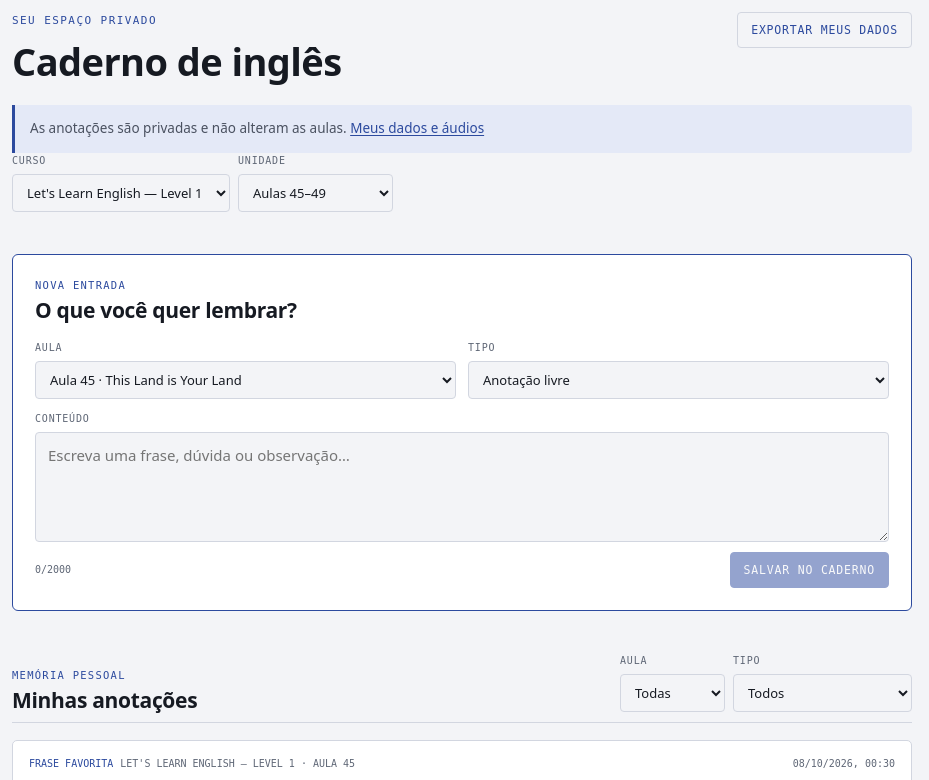
Test: NotebookPage › mostra o identificador da requisição quando a API falha ao salvar
Type "Uma frase nova" into the text box labelled "Conteúdo" at (462, 487), box [35,432,889,542]
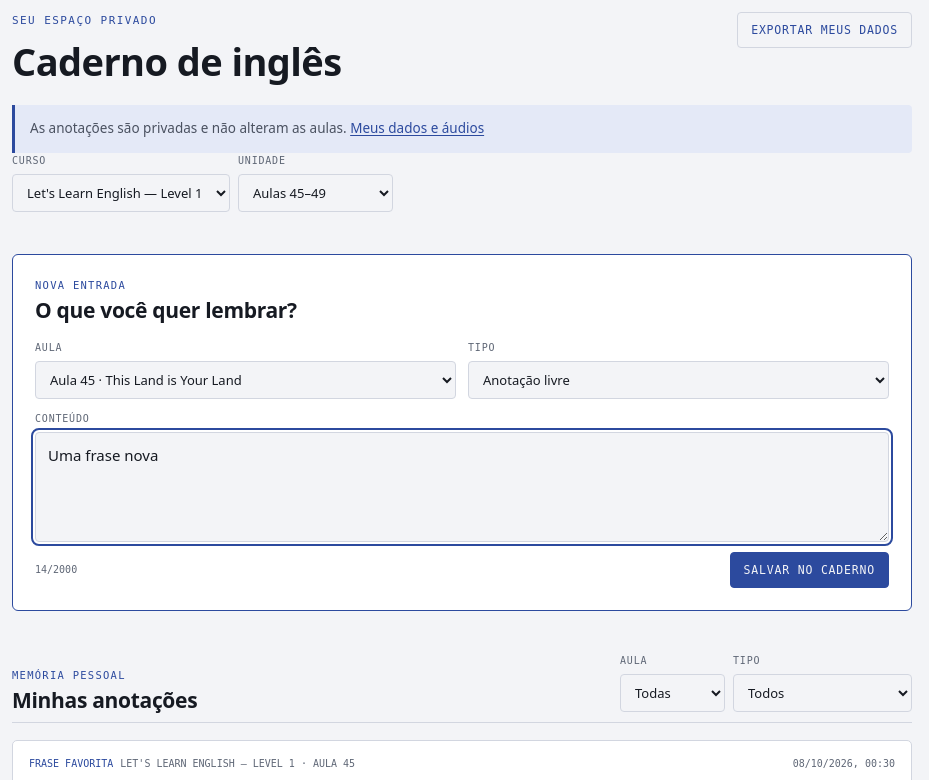
Click the button "Salvar no caderno" at (809, 570), box [730,552,889,588]
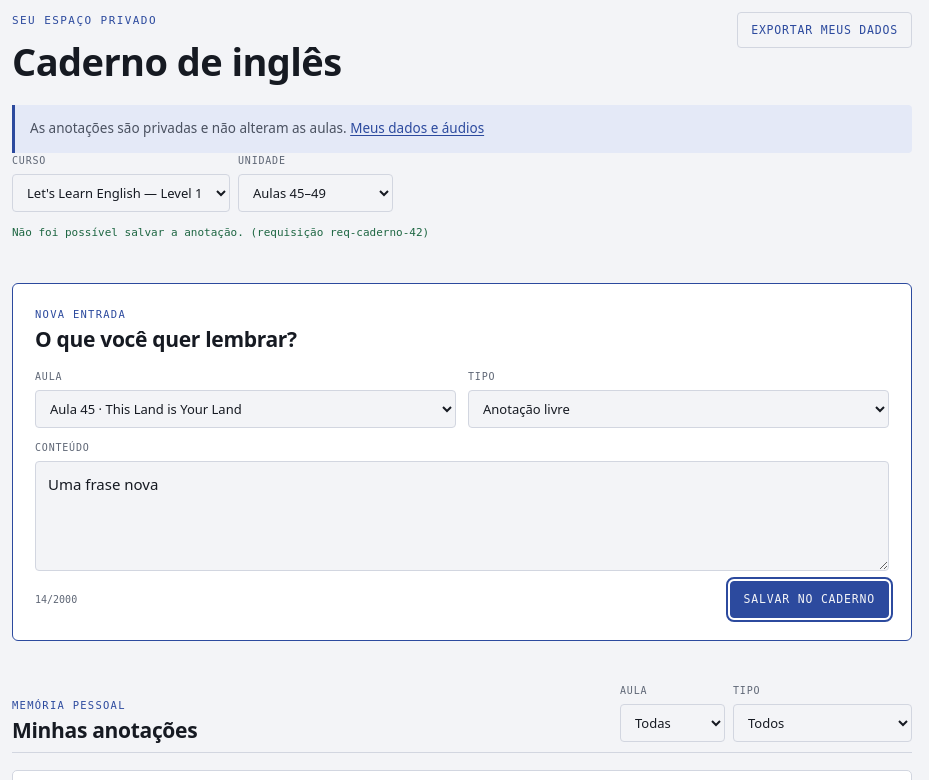
Result: the text "Não foi possível salvar a anotação. (requisição req-caderno-42)" is shown at [12,226,429,239]
